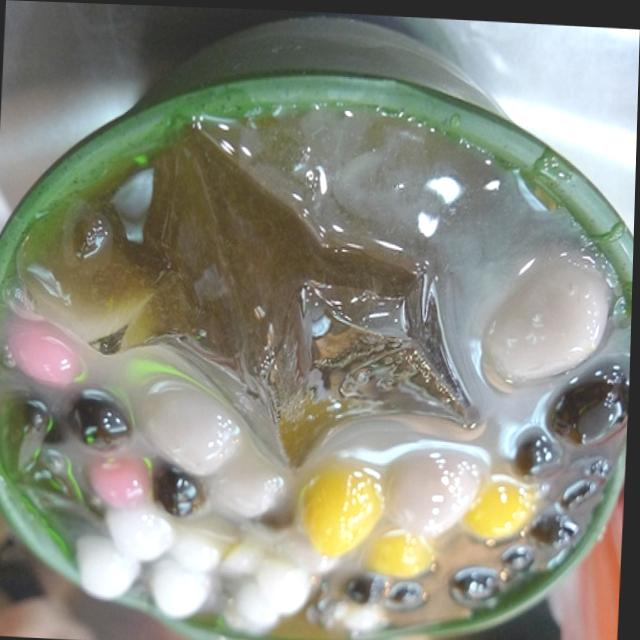蛋糕甜品: (0, 77, 638, 640)
